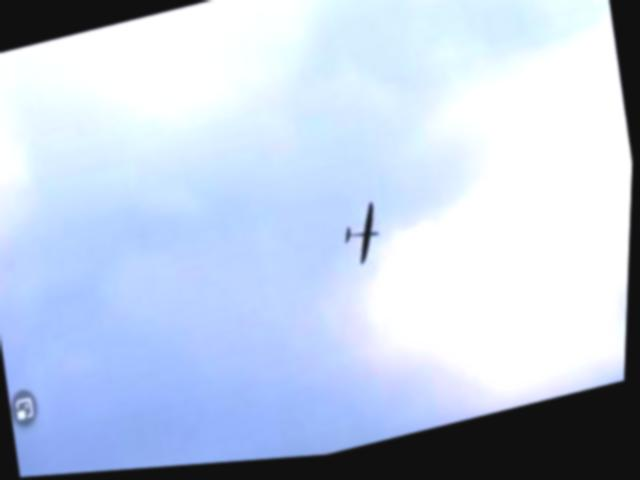uav: (336, 202, 390, 276)
